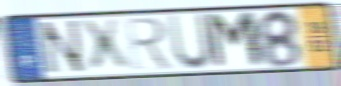8: (255, 7, 305, 70)
M: (204, 10, 268, 72)
N: (38, 18, 89, 77)
R: (123, 15, 176, 72)
U: (165, 11, 216, 73)
X: (78, 17, 133, 75)
